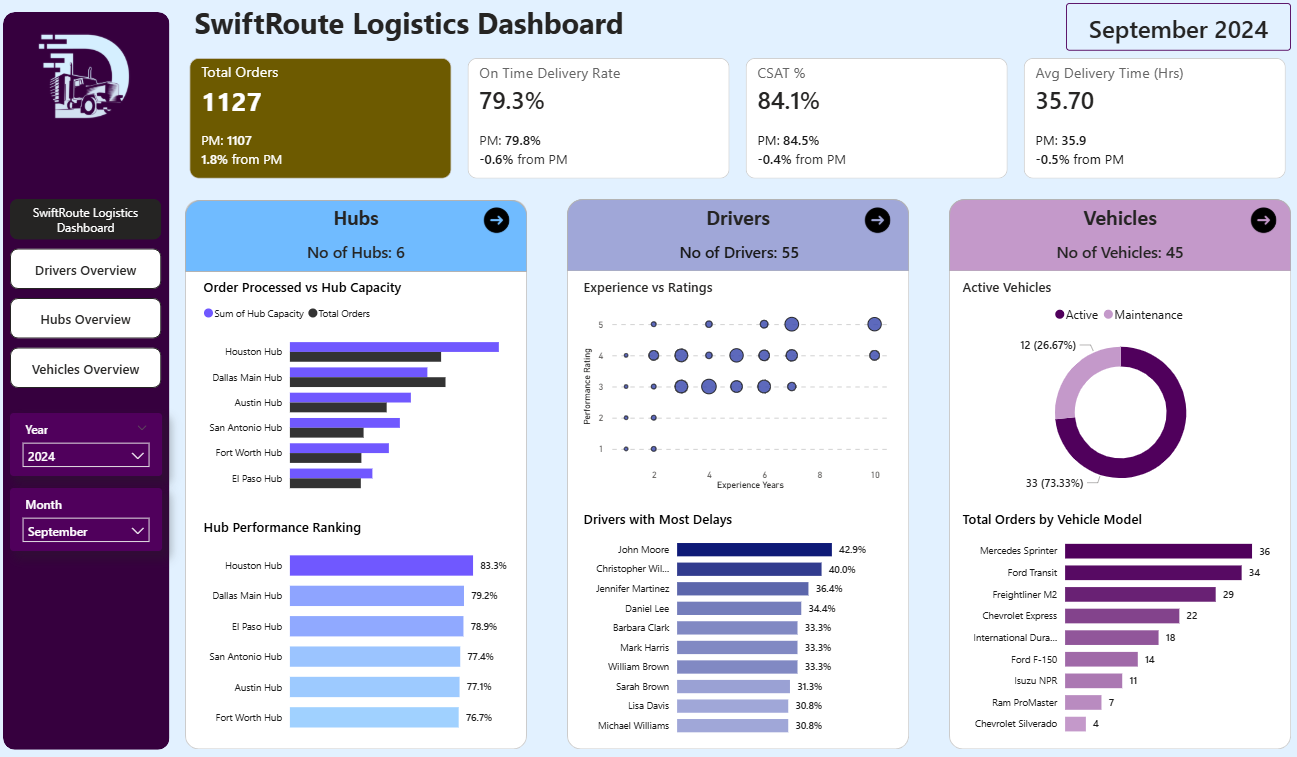

What the dashboard file says about the page in this screenshot:
{"tool":"powerbi","page":{"name":"SwiftRoute Logistics Dashboard","canvas":[1450,850],"ordinal":0},"visuals":[{"type":"shape","box":[7.7,15.4,185.1,819.8],"z":0},{"type":"textbox","box":[210.4,0,498,56.2],"z":1000},{"type":"slicer","fields":{"Values":["Date Table.Year"]},"box":[15.4,460.7,168.6,70],"z":2000},{"type":"cardVisual","fields":{"Data":["Orders.Total Orders","Orders.On Time Delivery Rate","Orders.CSAT %","Orders.Avg Delivery Time (Hrs)"]},"box":[210.4,56.2,1228.5,149.8],"z":3000},{"type":"slicer","fields":{"Values":["Date Table.Month"]},"box":[15.4,544.4,168.6,70],"z":4000},{"type":"shape","box":[210.4,224.8,380,610.4],"z":5000},{"type":"shape","box":[210.4,224.8,380.1,80],"z":6000},{"type":"textbox","box":[210.4,224.8,380.1,40.8],"z":7000},{"type":"cardVisual","fields":{"Data":["Hubs.No of Hubs"]},"box":[294.2,264.4,211.6,30.9],"z":8000},{"type":"clusteredBarChart","title":"Order Processed vs Hub Capacity","fields":{"Category":["Hubs.HubName"],"Y":["Sum(Hubs.Hub Capacity)","Orders.Total Orders"]},"box":[225.9,310.7,350.4,250.1],"z":9000},{"type":"barChart","title":"Hub Performance Ranking","fields":{"Category":["Hubs.HubName"],"Y":["Orders.On Time Delivery Rate"]},"box":[225.9,577.4,350.4,252.3],"z":10000},{"type":"shape","box":[634.7,224.8,380.1,610.4],"z":11000},{"type":"shape","box":[1058.9,224.8,380.1,610.4],"z":12000},{"type":"shape","box":[634.7,223.7,380.1,80.4],"z":13000},{"type":"textbox","box":[634.7,224.8,380.1,40.8],"z":14000},{"type":"shape","box":[1058.9,223.7,380.1,80.4],"z":15000},{"type":"textbox","box":[1080.9,224.8,336.1,40.8],"z":16000},{"type":"cardVisual","fields":{"Data":["Drivers.No of Drivers"]},"box":[662.2,264.4,327.2,30.9],"z":17000},{"type":"cardVisual","fields":{"Data":["Vehicles.No of Vehicles"]},"box":[1143.7,264.4,211.6,30.9],"z":18000},{"type":"scatterChart","title":"Experience vs Ratings","fields":{"X":["Drivers.Experience Years"],"Y":["Drivers.Performance Rating"],"Size":["Sum(Drivers.Experience Years)1"]},"box":[647.9,310.7,354.8,240.2],"z":19000},{"type":"barChart","title":"Drivers with Most Delays","fields":{"Category":["Drivers.DriverName"],"Y":["Orders.Delayed Delivery Rate"]},"box":[647.9,568.5,354.8,261.1],"z":20000},{"type":"donutChart","title":"Active Vehicles","fields":{"Category":["Vehicles.Vehicle Status"],"Y":["CountNonNull(Vehicles.Vehicle ID)"]},"box":[1068.8,310.7,361.4,250.1],"z":21000},{"type":"barChart","fields":{"Category":["Vehicles.Vehicle Model"],"Y":["Orders.Total Orders"]},"box":[1068.8,568.5,354.8,261.1],"z":22000},{"type":"image","box":[33.1,29.7,131.1,122.3],"z":23000},{"type":"cardVisual","fields":{"Data":["Orders.Year Month Title"]},"box":[1188.9,5.6,250,53.3],"z":24000},{"type":"image","box":[955.3,229.2,47.4,36.4],"z":25000},{"type":"image","box":[532.2,229.2,47.4,36.4],"z":26000},{"type":"pageNavigator","box":[15.4,223.7,168.6,212.7],"z":27000},{"type":"image","box":[1383.9,229.2,47.4,36.4],"z":28000}]}

Visuals, with their boxes on the page's 1450x850 design canvas (x1, y1, x2, y2). These are canvas units, not pixel positions in the 1297x757 screenshot, which may show the page scaled, cropped or inside an application window:
shape: [8, 15, 193, 835]
textbox: [210, 0, 708, 56]
slicer - Date Table.Year: [15, 461, 184, 531]
cardVisual - Orders.Total Orders x Orders.On Time Delivery Rate: [210, 56, 1439, 206]
slicer - Date Table.Month: [15, 544, 184, 614]
shape: [210, 225, 590, 835]
shape: [210, 225, 590, 305]
textbox: [210, 225, 590, 266]
cardVisual - Hubs.No of Hubs: [294, 264, 506, 295]
"Order Processed vs Hub Capacity" clusteredBarChart: [226, 311, 576, 561]
"Hub Performance Ranking" barChart: [226, 577, 576, 830]
shape: [635, 225, 1015, 835]
shape: [1059, 225, 1439, 835]
shape: [635, 224, 1015, 304]
textbox: [635, 225, 1015, 266]
shape: [1059, 224, 1439, 304]
textbox: [1081, 225, 1417, 266]
cardVisual - Drivers.No of Drivers: [662, 264, 989, 295]
cardVisual - Vehicles.No of Vehicles: [1144, 264, 1355, 295]
"Experience vs Ratings" scatterChart: [648, 311, 1003, 551]
"Drivers with Most Delays" barChart: [648, 568, 1003, 830]
"Active Vehicles" donutChart: [1069, 311, 1430, 561]
barChart - Vehicles.Vehicle Model x Orders.Total Orders: [1069, 568, 1424, 830]
image: [33, 30, 164, 152]
cardVisual - Orders.Year Month Title: [1189, 6, 1439, 59]
image: [955, 229, 1003, 266]
image: [532, 229, 580, 266]
pageNavigator: [15, 224, 184, 436]
image: [1384, 229, 1431, 266]
